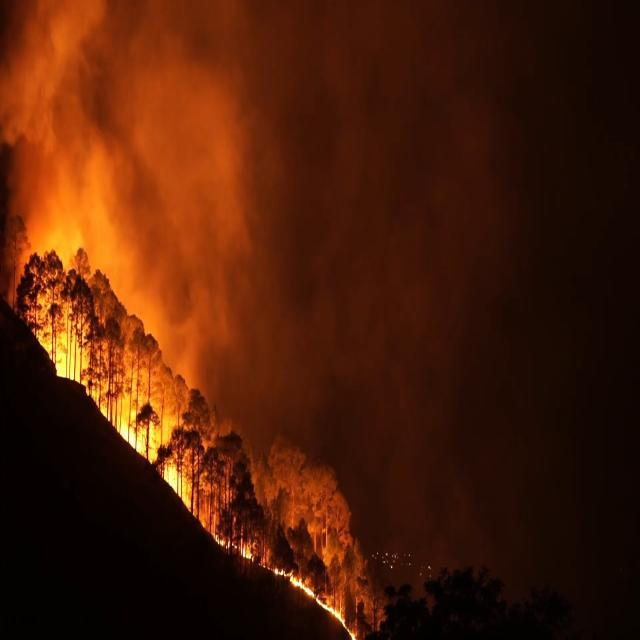Fire: (18, 209, 222, 496), (186, 498, 384, 640)
Smoke: (3, 2, 546, 212), (222, 218, 559, 494), (386, 500, 580, 608)
